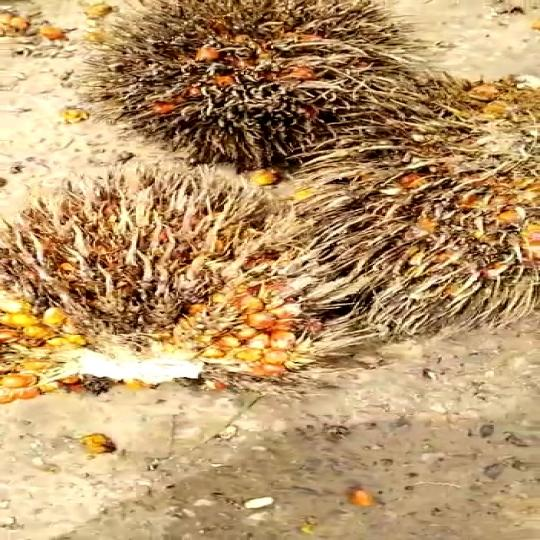terlalu masak: (0, 160, 375, 386), (83, 0, 421, 160), (322, 91, 540, 328)
